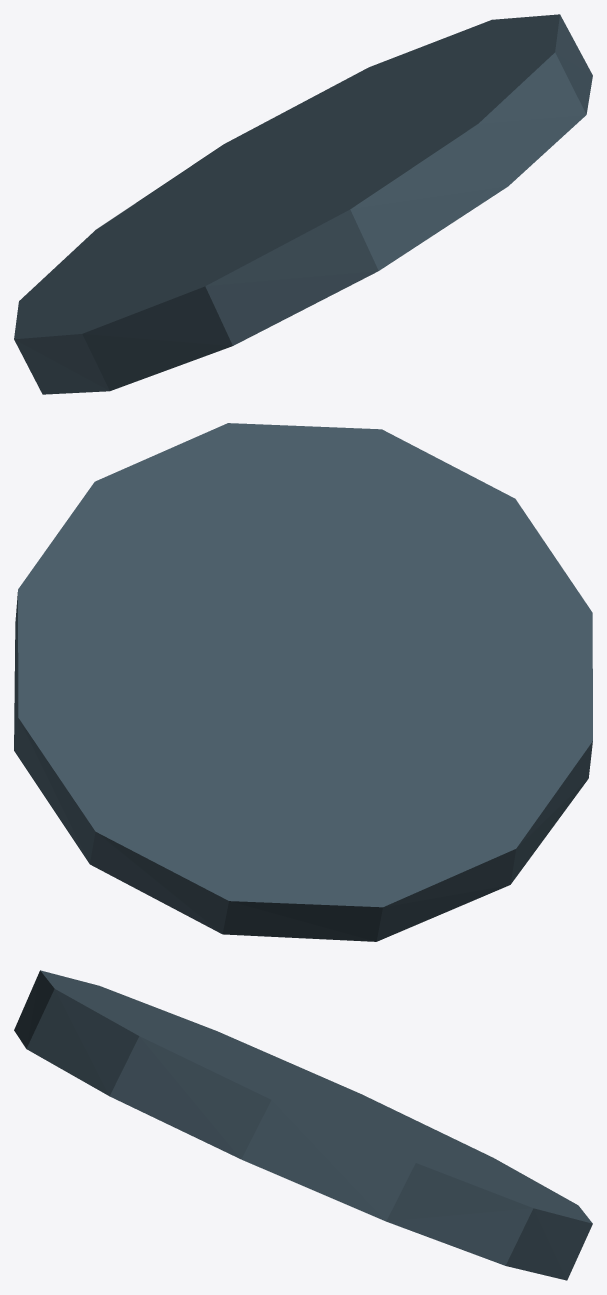
The model's file is astronaut_base_group2129567275_lev4.glb.
The picture shows the model from 3 angles, top to bottom: view 1: azimuth 30°, elevation 25°; view 2: azimuth 150°, elevation 25°; view 3: azimuth 270°, elevation 25°; orthographic projection. The views are drawn at different scales.
Visible parts, largest first — view 1: astronaut_base_group2129567275_lev4; view 2: astronaut_base_group2129567275_lev4; view 3: astronaut_base_group2129567275_lev4.
Part boxes in pixels (x1,y1,x2,y2): astronaut_base_group2129567275_lev4: [14, 14, 592, 394]; astronaut_base_group2129567275_lev4: [14, 423, 592, 941]; astronaut_base_group2129567275_lev4: [14, 970, 592, 1280].
Size of the model in its own units: 0.2135 by 0.1338 by 0.2101.
